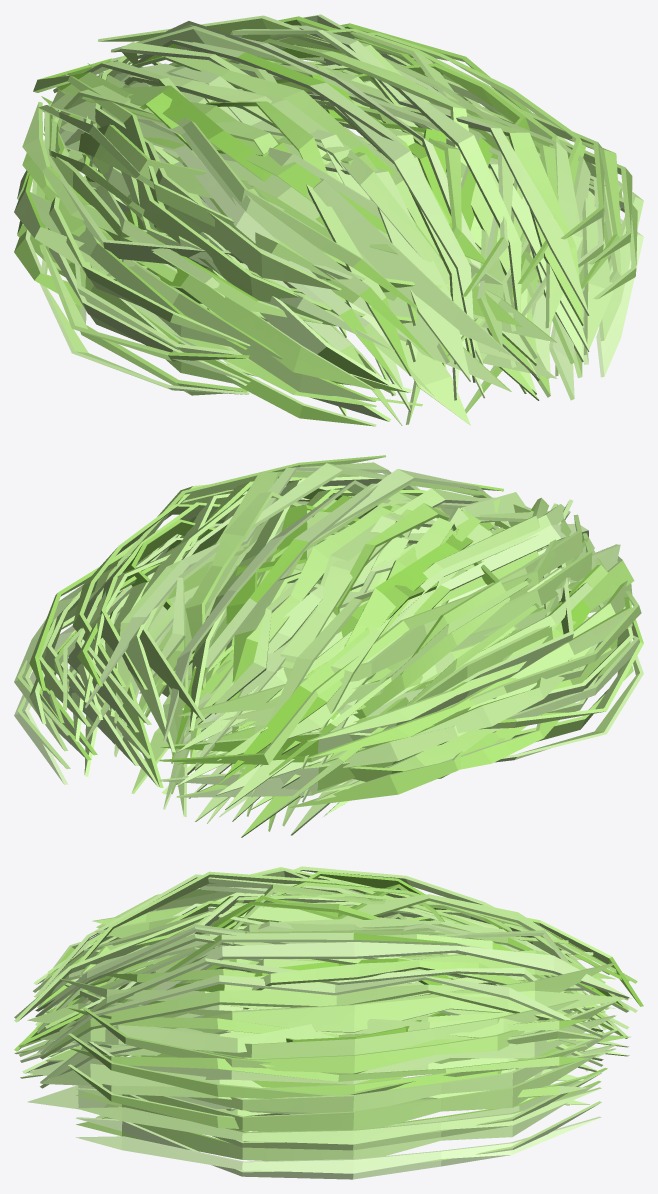
Rendered from cabbage_1.fbx.
3 renders of one model, top to bottom at view 1: azimuth 30°, elevation 25°; view 2: azimuth 150°, elevation 25°; view 3: azimuth 270°, elevation 25°, orthographic. The views are drawn at different scales.
Parts seen in each view (by area): view 1: pPlane185; view 2: pPlane185; view 3: pPlane185.
Boxes of the visible parts, box(x1,y1,x2,y2) form: pPlane185: box(14, 14, 643, 426); pPlane185: box(14, 455, 643, 837); pPlane185: box(14, 866, 643, 1179).
Size of the model in its own units: 0.3516 by 0.1362 by 0.433.
Materials: 1 (1 with a texture image).
